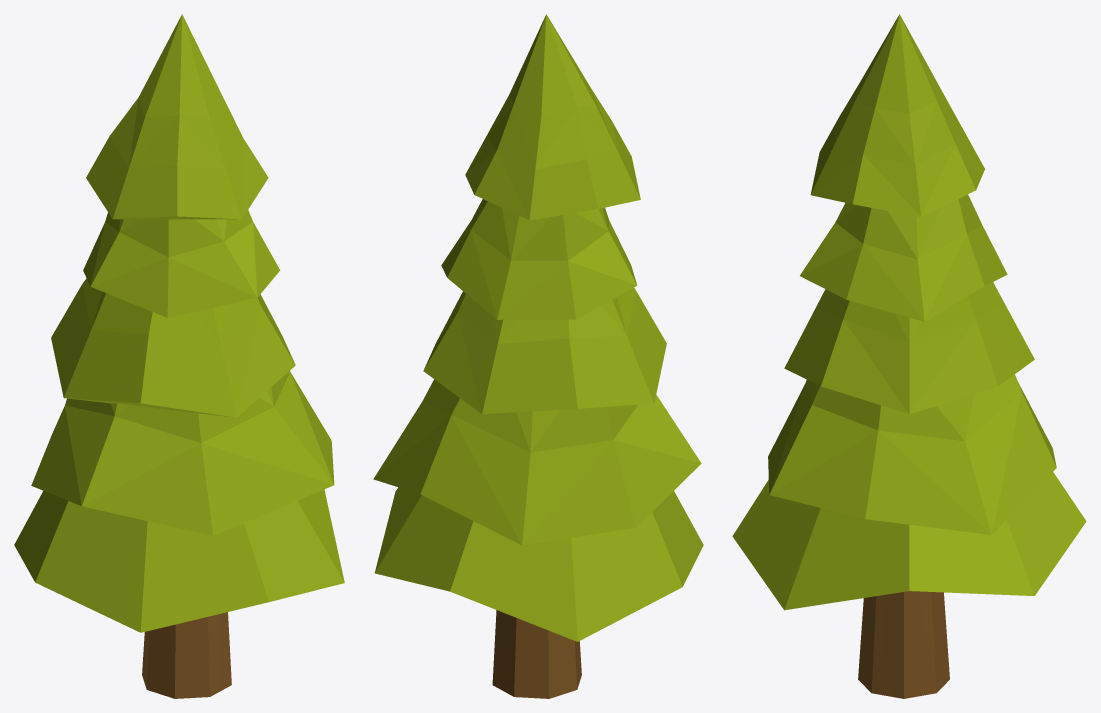
File: tree3.fbx
3 views of the same model, side by side, from view 1: azimuth 30°, elevation 25°; view 2: azimuth 150°, elevation 25°; view 3: azimuth 270°, elevation 25° (orthographic).
Visible parts, largest first — view 1: Group2, Group1, Group3, Group5, Group6, Group4; view 2: Group2, Group1, Group3, Group5, Group6, Group4; view 3: Group2, Group1, Group3, Group5, Group6, Group4.
Part boxes in pixels (left/top/right/bottom): Group2: left=31, top=371, right=334, bottom=535; Group1: left=14, top=489, right=344, bottom=632; Group3: left=51, top=278, right=295, bottom=417; Group5: left=86, top=14, right=268, bottom=219; Group6: left=83, top=210, right=280, bottom=317; Group4: left=142, top=612, right=231, bottom=698; Group2: left=373, top=379, right=701, bottom=545; Group1: left=374, top=487, right=703, bottom=641; Group3: left=423, top=288, right=666, bottom=414; Group5: left=465, top=14, right=640, bottom=220; Group6: left=441, top=199, right=637, bottom=319; Group4: left=492, top=610, right=581, bottom=698; Group2: left=768, top=374, right=1056, bottom=534; Group1: left=732, top=472, right=1086, bottom=610; Group3: left=784, top=282, right=1034, bottom=414; Group5: left=810, top=14, right=984, bottom=216; Group6: left=800, top=194, right=1007, bottom=321; Group4: left=858, top=591, right=949, bottom=698.
Size of the model in its own units: 1.48 by 3.27 by 1.59.
